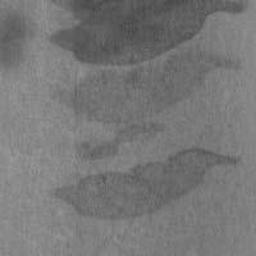Oil spot: (45, 0, 250, 221), (0, 0, 41, 73)
